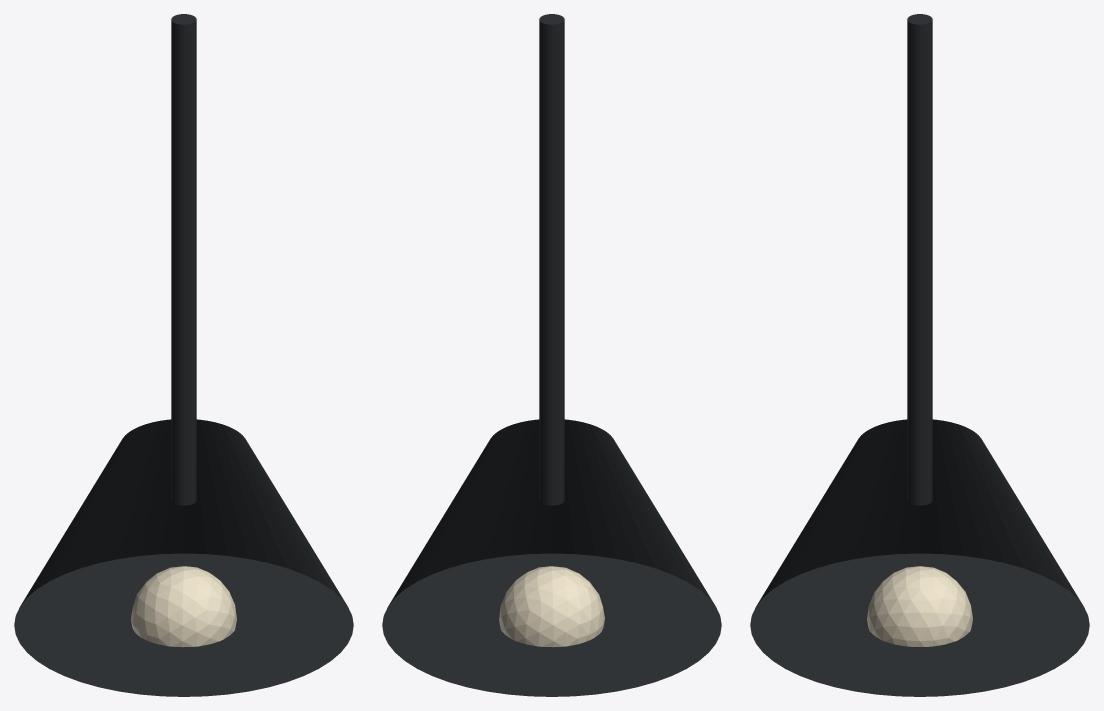
File: pendant_lamp.glb
3 views of the same model, side by side, from view 1: azimuth 30°, elevation 25°; view 2: azimuth 150°, elevation 25°; view 3: azimuth 270°, elevation 25° (orthographic).
Parts seen in each view (by area): view 1: Shade, Cord, Bulb; view 2: Shade, Cord, Bulb; view 3: Shade, Cord, Bulb.
Boxes of the visible parts, <box> form: Shade: <box>14,419,353,696</box>; Cord: <box>171,14,196,505</box>; Bulb: <box>131,566,236,647</box>; Shade: <box>382,419,721,696</box>; Cord: <box>539,14,564,505</box>; Bulb: <box>499,566,604,647</box>; Shade: <box>750,419,1089,696</box>; Cord: <box>907,14,932,505</box>; Bulb: <box>867,566,972,646</box>.
Bounding box in the file's own units: 0.48 × 1.01 × 0.48.
